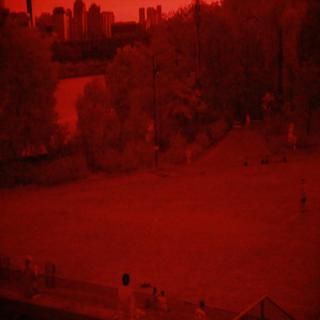person: (113, 263, 137, 317), (293, 172, 317, 221), (195, 291, 210, 320)
